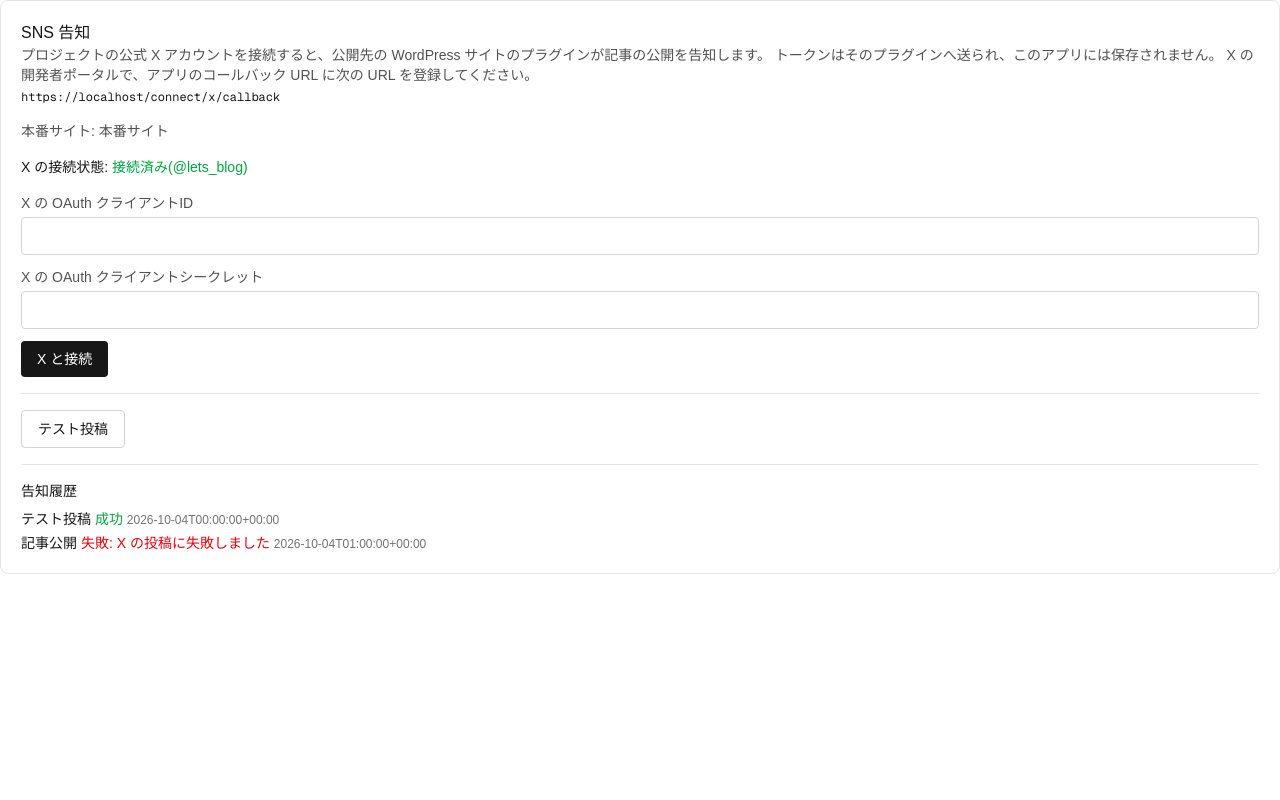
Test: ProjectSnsXSection › 接続済みでテスト投稿を押すと、投稿がバックエンドへ送られ成功を示す
The image size is (1280, 800).
Click the button "テスト投稿": x=73, y=429 left=21, top=410, right=125, bottom=448
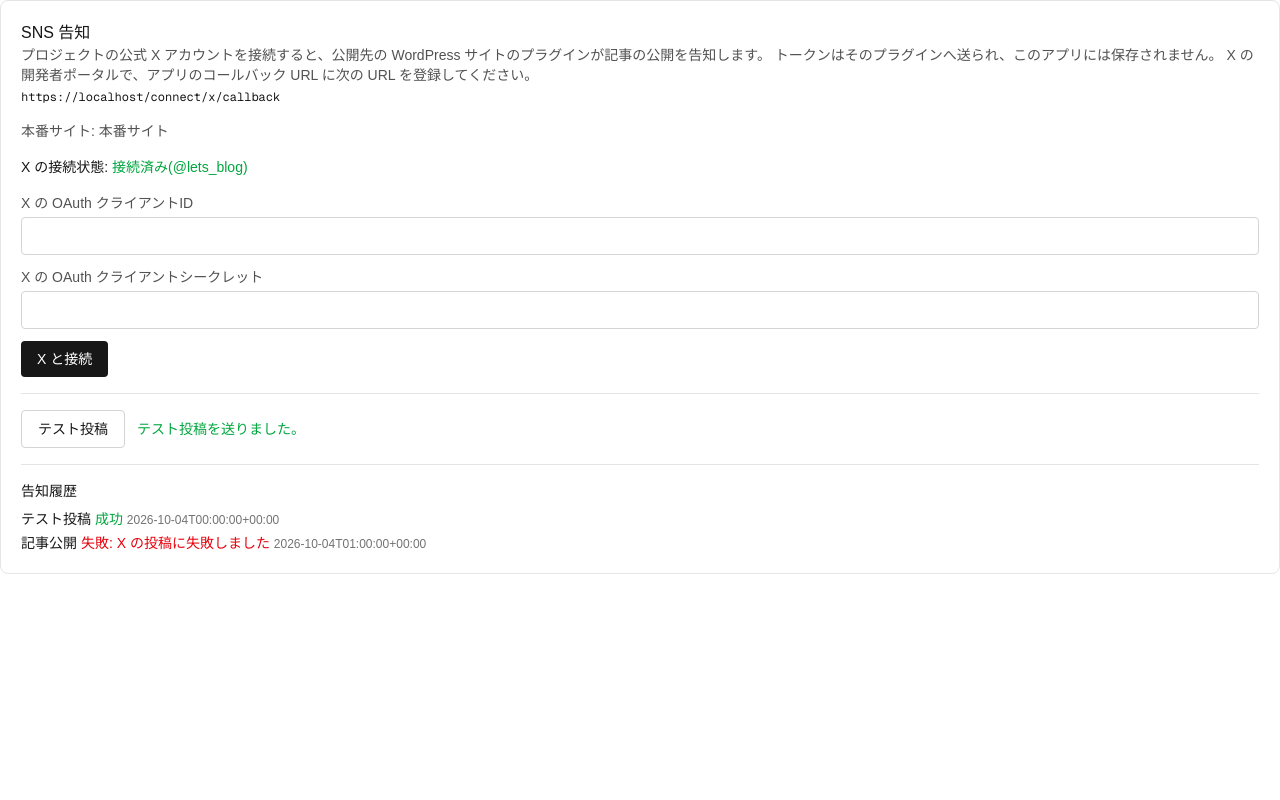
Result: the text "テスト投稿を送りました。" is shown at left=137, top=419, right=305, bottom=439
